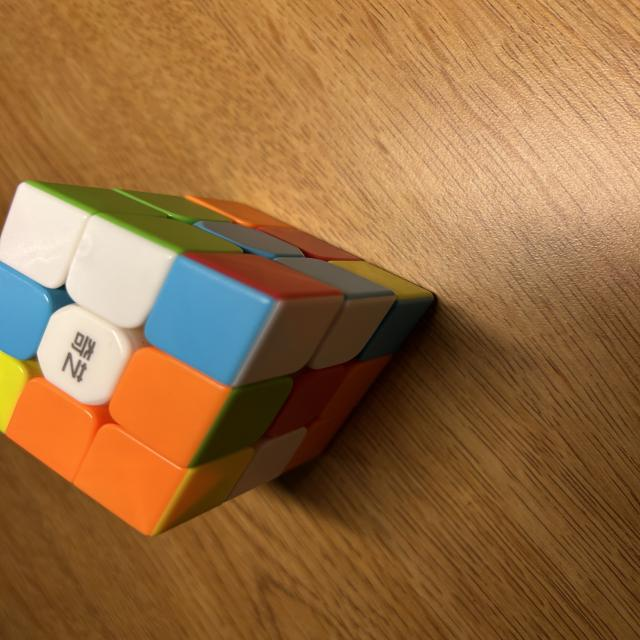Rubiks Cube: (0, 186, 436, 537)
